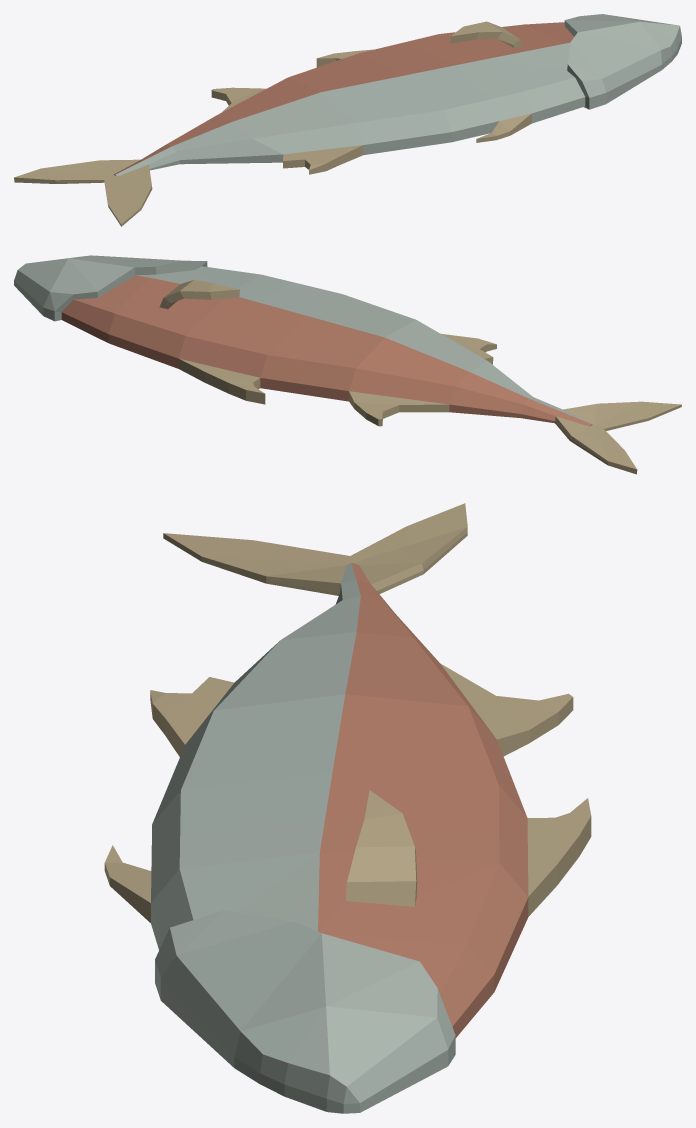
Rendered from fish_cooked.glb.
3 renders of one model, top to bottom at view 1: azimuth 30°, elevation 25°; view 2: azimuth 150°, elevation 25°; view 3: azimuth 270°, elevation 25°, orthographic. The views are drawn at different scales.
Parts seen in each view (by area): view 1: fish_cooked; view 2: fish_cooked; view 3: fish_cooked.
Boxes of the visible parts, x1,y1,x2,y2 form: fish_cooked: [14, 14, 681, 226]; fish_cooked: [14, 255, 681, 474]; fish_cooked: [104, 503, 591, 1113].
Size of the model in its own units: 0.32 by 0.0303 by 0.1058.
